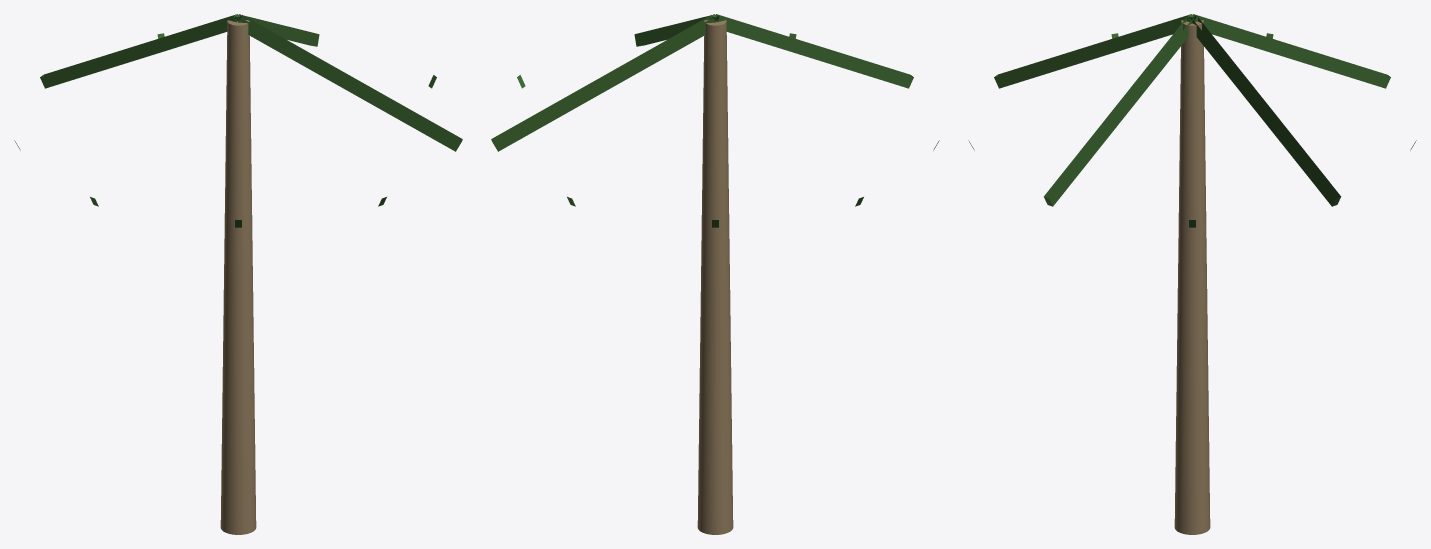
The model's file is e15-palm.lod1.glb.
3 renders of one model, left to right at view 1: azimuth 30°, elevation 25°; view 2: azimuth 150°, elevation 25°; view 3: azimuth 270°, elevation 25°, orthographic.
Parts seen in each view (by area): view 1: part0, part9, part4, part2; view 2: part0, part2, part7, part9; view 3: part0, part2, part9, part4, part7.
Boxes of the visible parts, <box> form: part0: <box>220,20,256,534</box>; part9: <box>238,15,462,151</box>; part4: <box>40,14,237,88</box>; part2: <box>236,14,319,46</box>; part0: <box>697,20,733,534</box>; part2: <box>491,15,715,151</box>; part7: <box>716,14,913,88</box>; part9: <box>634,14,717,46</box>; part0: <box>1174,20,1210,534</box>; part2: <box>1190,16,1341,206</box>; part9: <box>1043,16,1194,206</box>; part4: <box>1193,14,1390,88</box>; part7: <box>994,14,1191,88</box>.
Bounding box in the file's own units: 8701 × 11110 × 8835.
